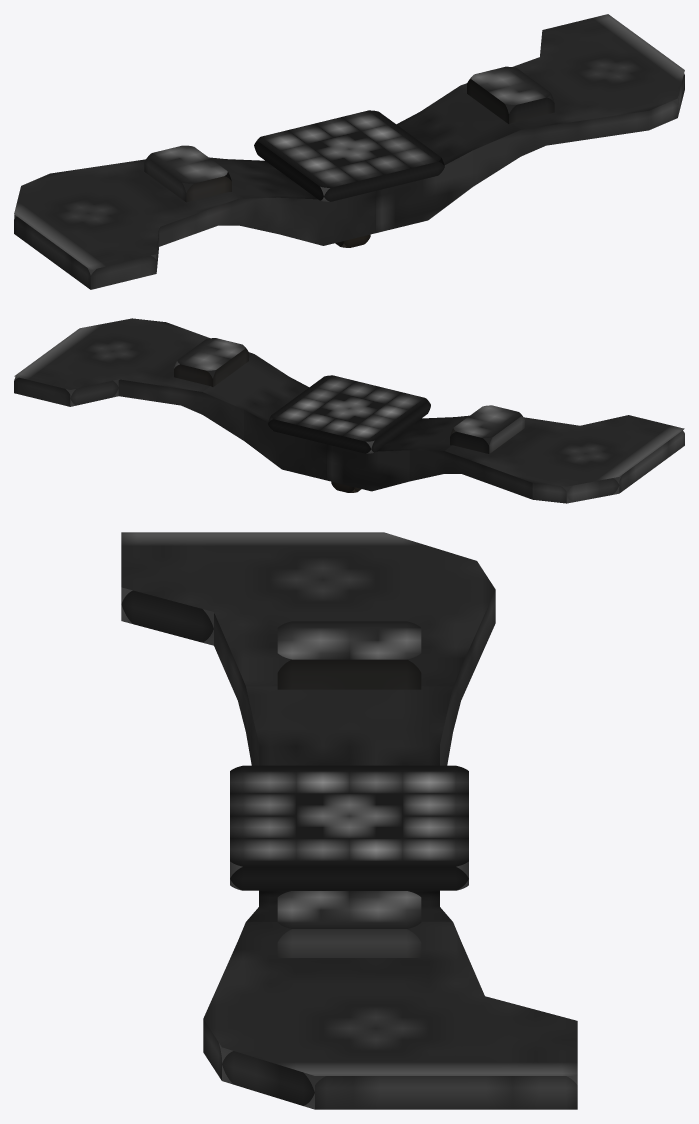
File: bolster.obj
3 renders of one model, top to bottom at view 1: azimuth 30°, elevation 25°; view 2: azimuth 150°, elevation 25°; view 3: azimuth 270°, elevation 25°, orthographic. The views are drawn at different scales.
Parts seen in each view (by area): view 1: bolster; view 2: bolster; view 3: bolster.
Boxes of the visible parts, x1,y1,x2,y2 form: bolster: (14, 14, 684, 289); bolster: (14, 318, 684, 503); bolster: (121, 532, 577, 1109).
Size of the model in its own units: 3.03 by 0.5125 by 1.07.
